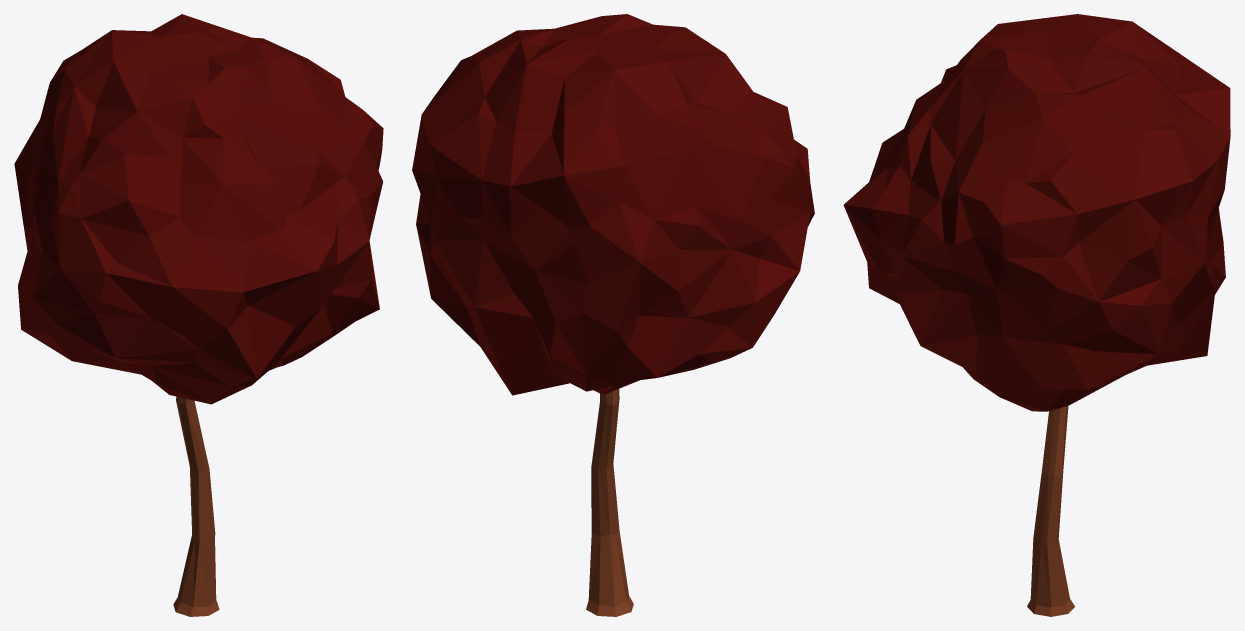
Rendered from burning-growing-tree1.glb.
The picture shows the model from 3 angles, left to right: view 1: azimuth 30°, elevation 25°; view 2: azimuth 150°, elevation 25°; view 3: azimuth 270°, elevation 25°; orthographic projection. The views are drawn at different scales.
Visible parts, largest first — view 1: Tree.1; view 2: Tree.1; view 3: Tree.1.
Part boxes in pixels (x1=…): Tree.1: x1=14, y1=14, x2=383, y2=616; Tree.1: x1=412, y1=14, x2=814, y2=616; Tree.1: x1=843, y1=14, x2=1230, y2=616.
Bounding box in the file's own units: 0.1521 × 0.2385 × 0.1484.
